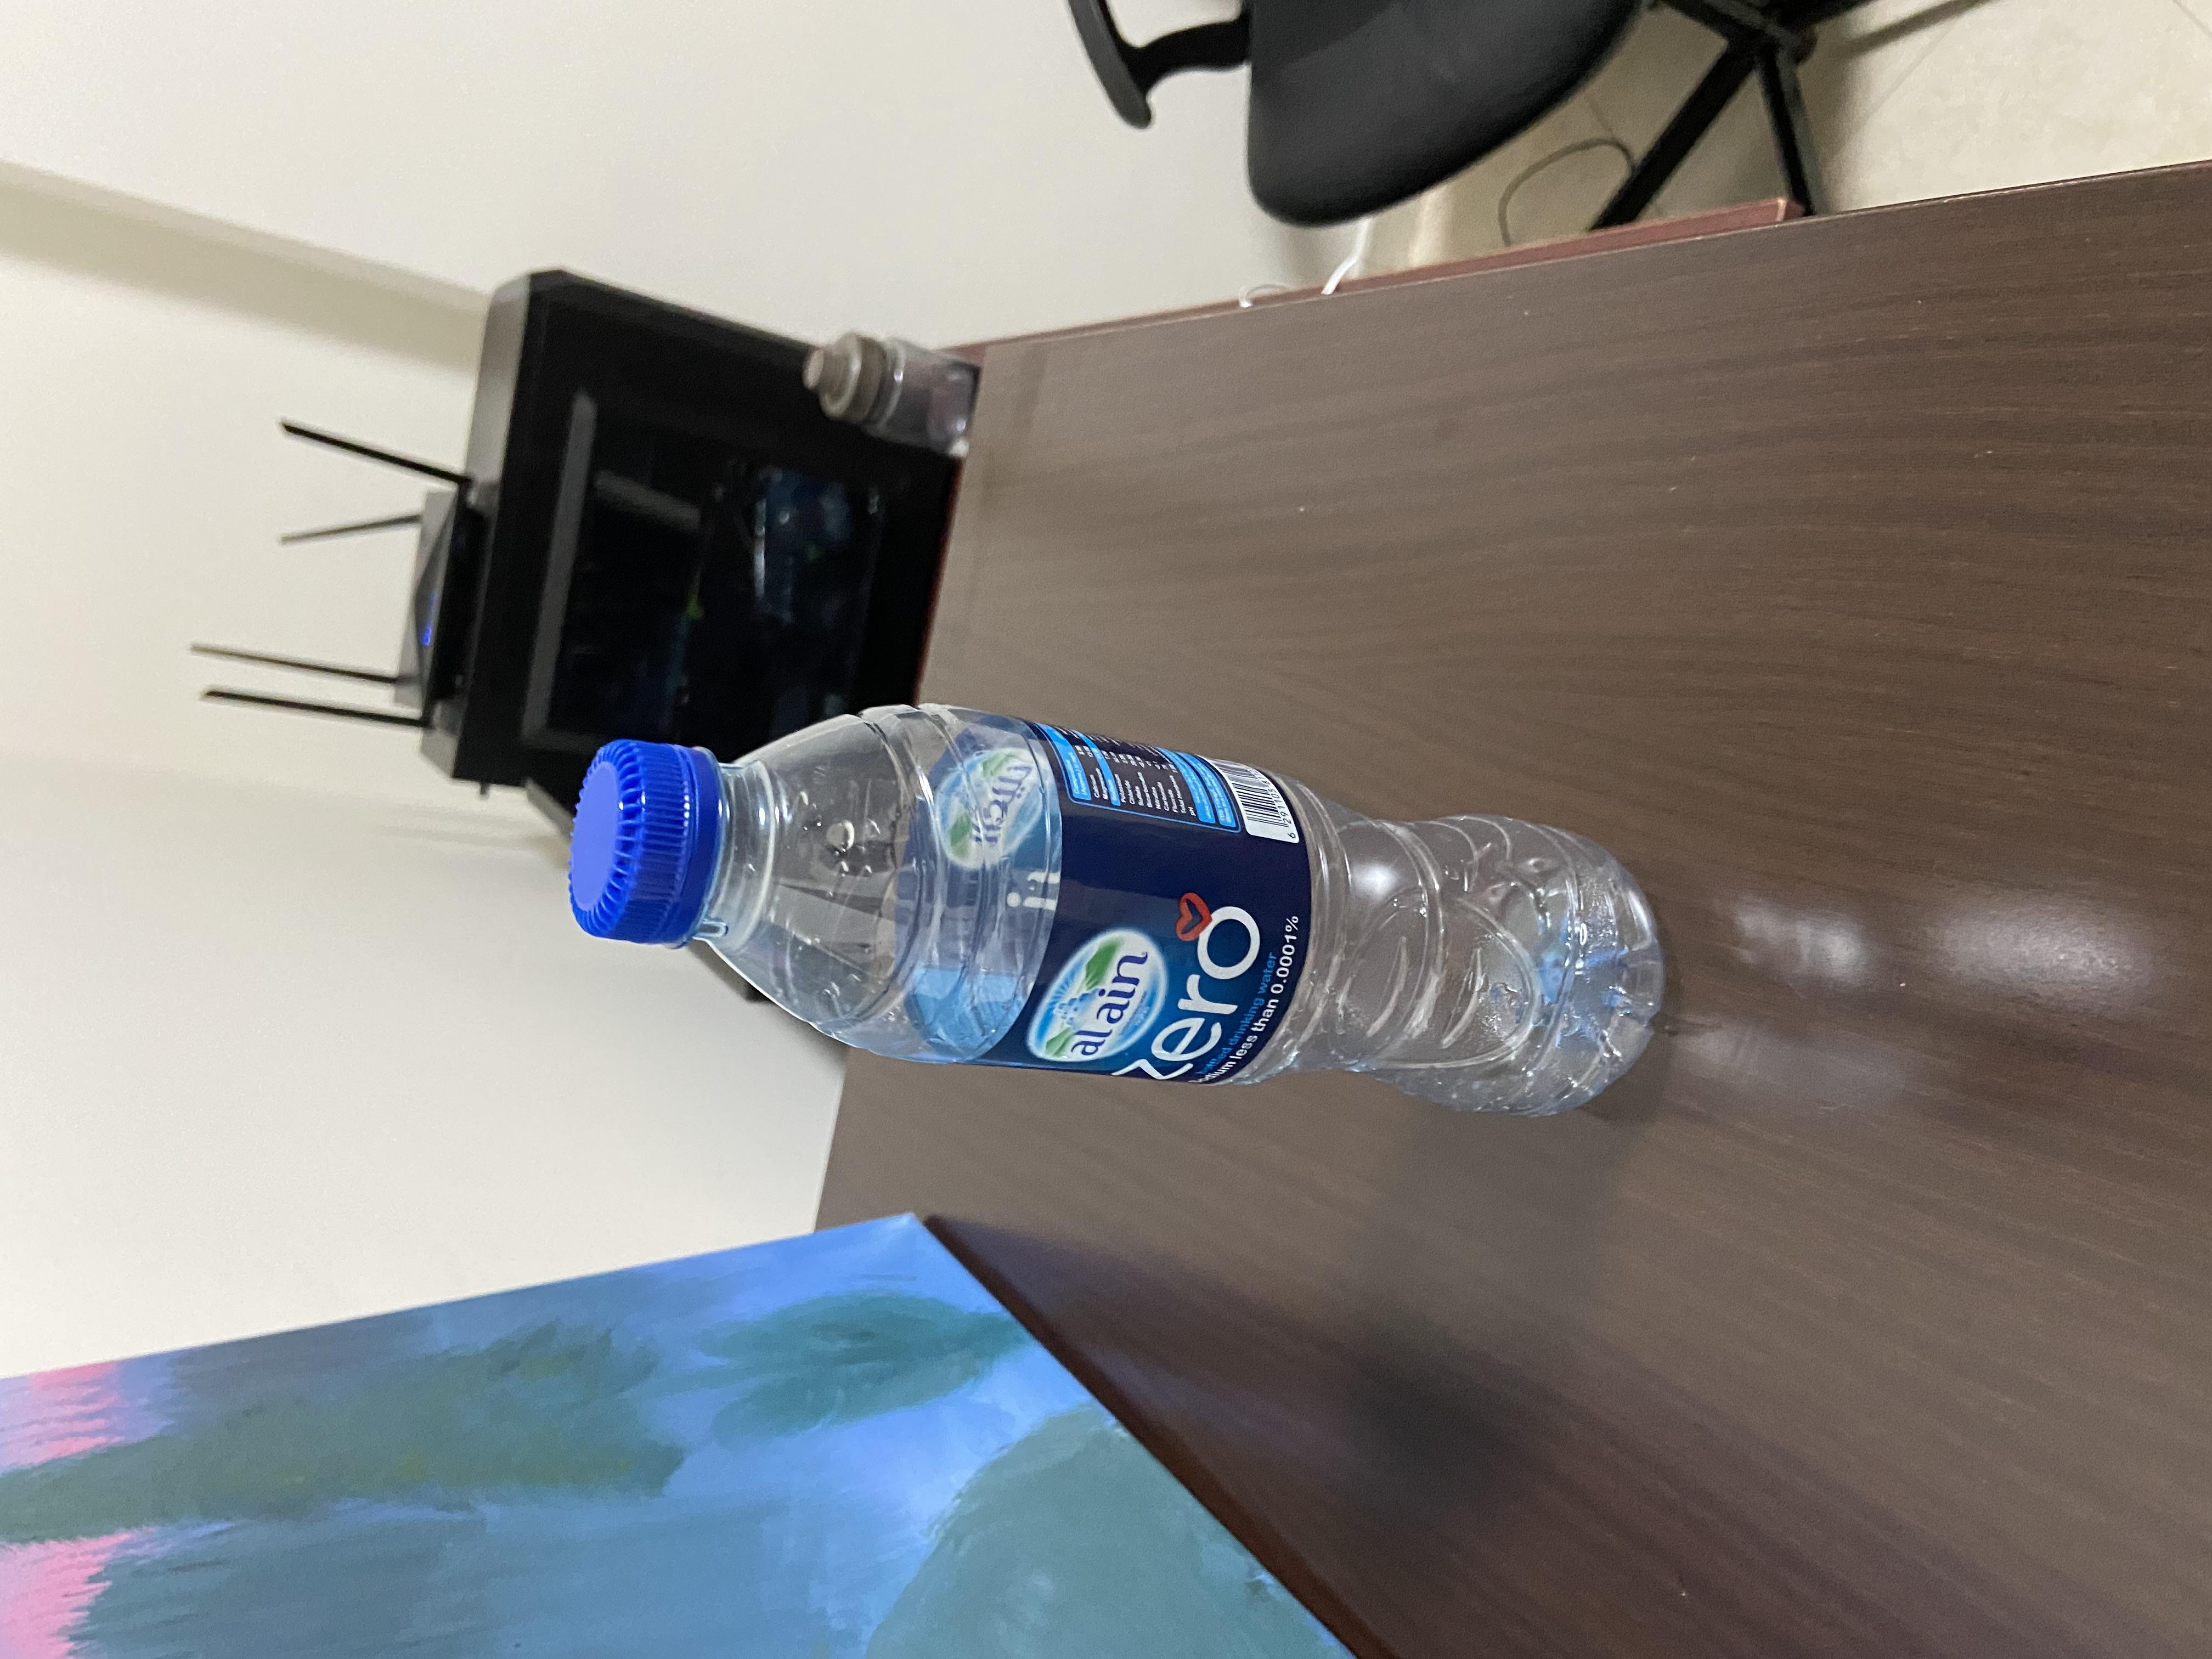bottle: (719, 411, 1273, 1258)
